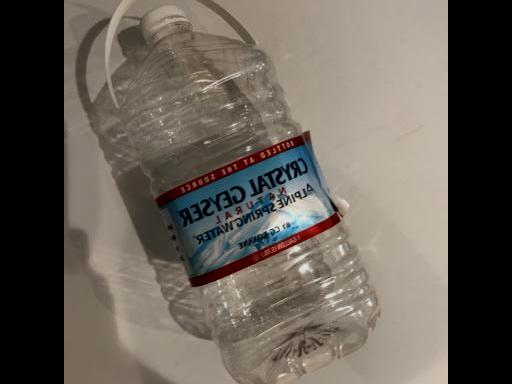bottle: (105, 0, 380, 384)
